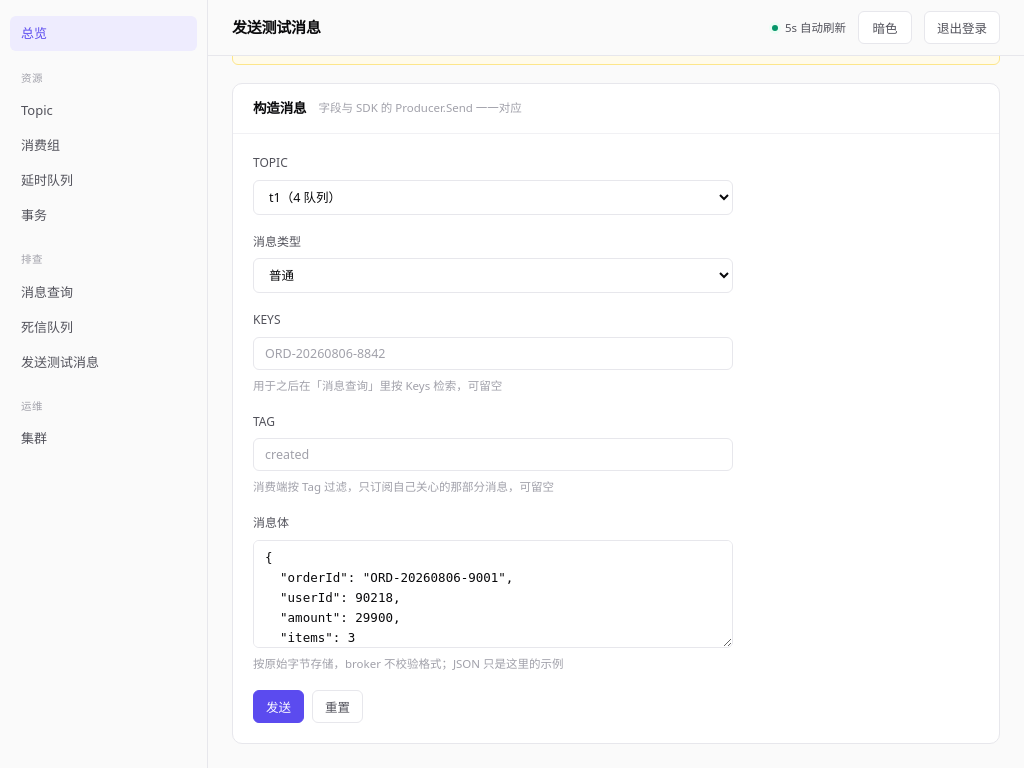
Scenario: Send › ErrNotLeader 错误渲染带集群页链接的可操作指引
(page scrolled)
// 表单默认选中第一个 topic（t1）；直接点发送
Click the button "发送".
click(278, 707)  # box left=253, top=690, right=304, bottom=723
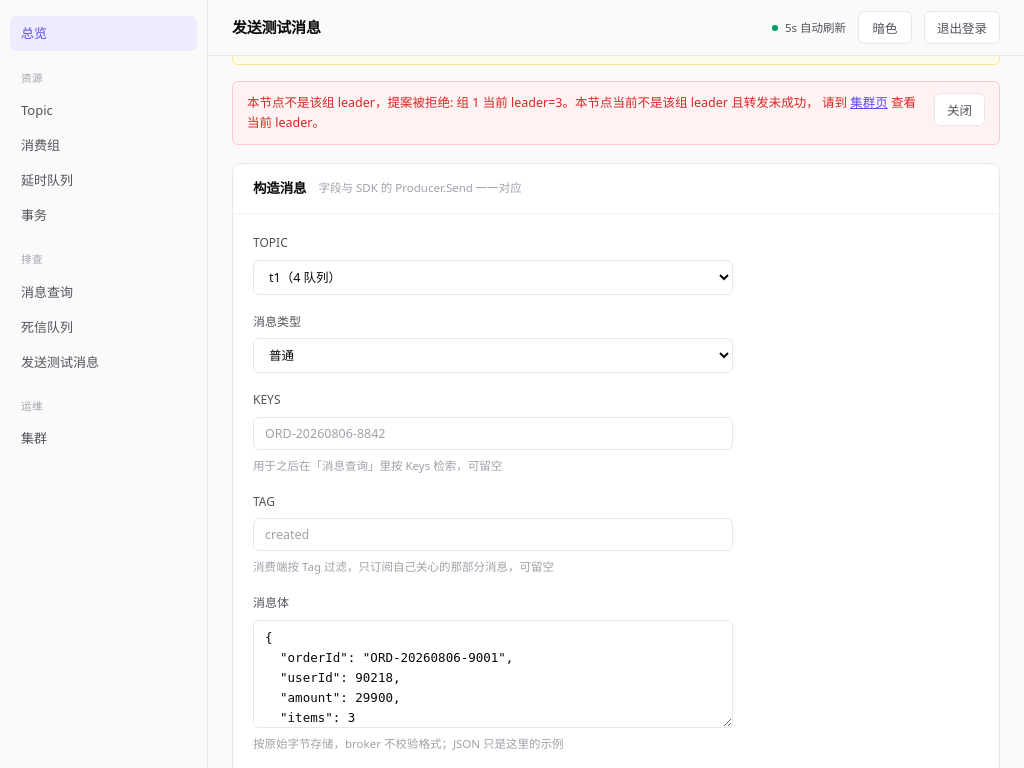
Expected: the link to "/cluster" is shown, left=21, top=429, right=47, bottom=447
Now the text "本节点当前不是该组 leader 且转发未成功" is shown, box left=562, top=94, right=850, bottom=111
